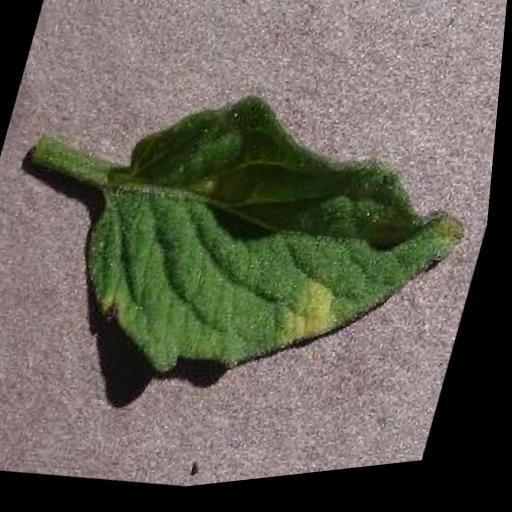Leaf Mold: (58, 56, 505, 434)
